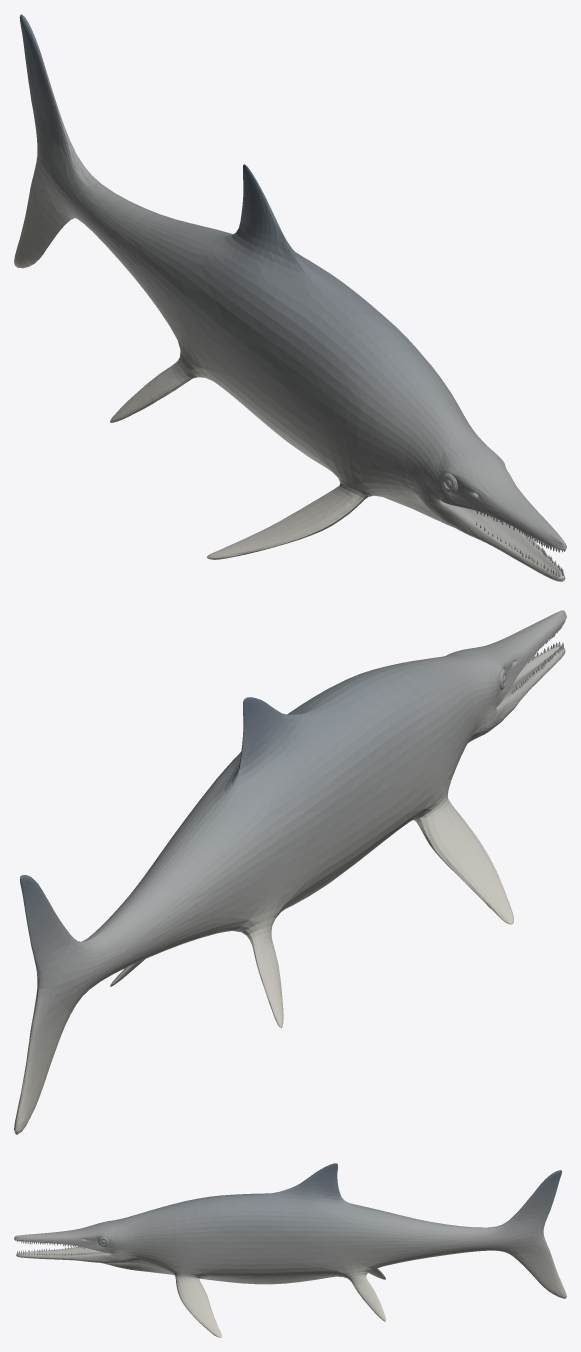
The model's file is ichthyosaurus.glb.
3 renders of one model, top to bottom at view 1: azimuth 30°, elevation 25°; view 2: azimuth 150°, elevation 25°; view 3: azimuth 270°, elevation 25°, orthographic. The views are drawn at different scales.
Visible parts, largest first — view 1: ichthyosaurus.obj; view 2: ichthyosaurus.obj; view 3: ichthyosaurus.obj.
Boxes of the visible parts, <box> form: ichthyosaurus.obj: <box>14,14,566,581</box>; ichthyosaurus.obj: <box>14,610,566,1134</box>; ichthyosaurus.obj: <box>14,1163,566,1337</box>.
Bounding box in the file's own units: 2.55 × 2.18 × 7.96.
